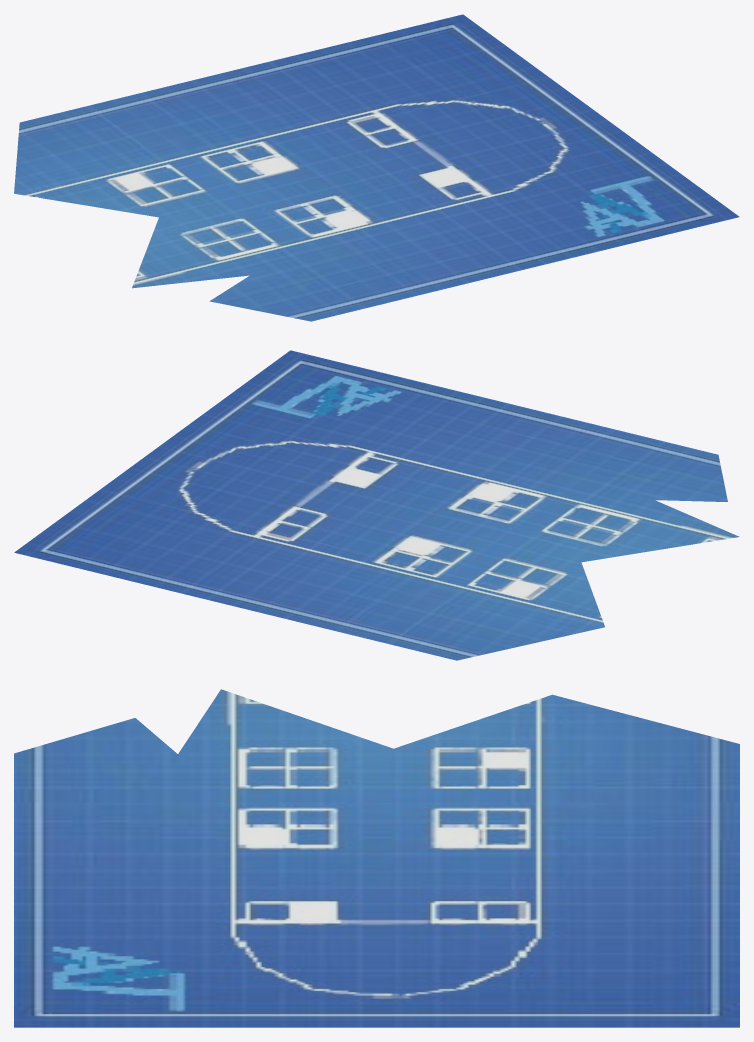
Rendered from sticker2.fbx.
3 renders of one model, top to bottom at view 1: azimuth 30°, elevation 25°; view 2: azimuth 150°, elevation 25°; view 3: azimuth 270°, elevation 25°, orthographic. The views are drawn at different scales.
Parts seen in each view (by area): view 1: sticker2; view 2: sticker2; view 3: sticker2.
Boxes of the visible parts, x1,y1,x2,y2 form: sticker2: (14,14,739,321); sticker2: (14,350,739,660); sticker2: (14,689,739,1027).
Size of the model in its own units: 110 by 3.03e-05 by 100.
Materials: 1 (1 with a texture image).
